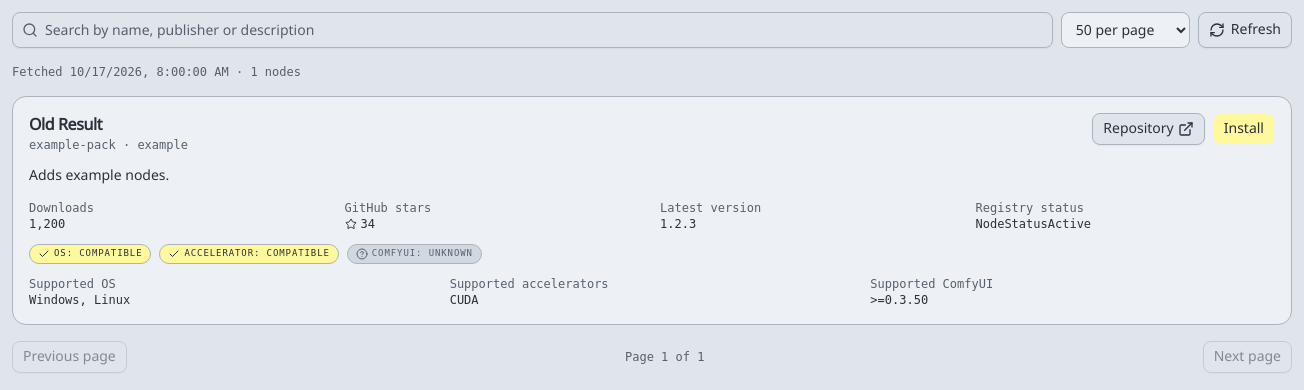
Test case: previous_query_results_cannot_be_installed
The image size is (1304, 390).
Check: the button with aria-label "Install Old Result" is enabled, box [1213,113,1275,145]
Type "next" into the field named "Search the Comfy Registry" at (532, 30), box [12,12,1053,48]
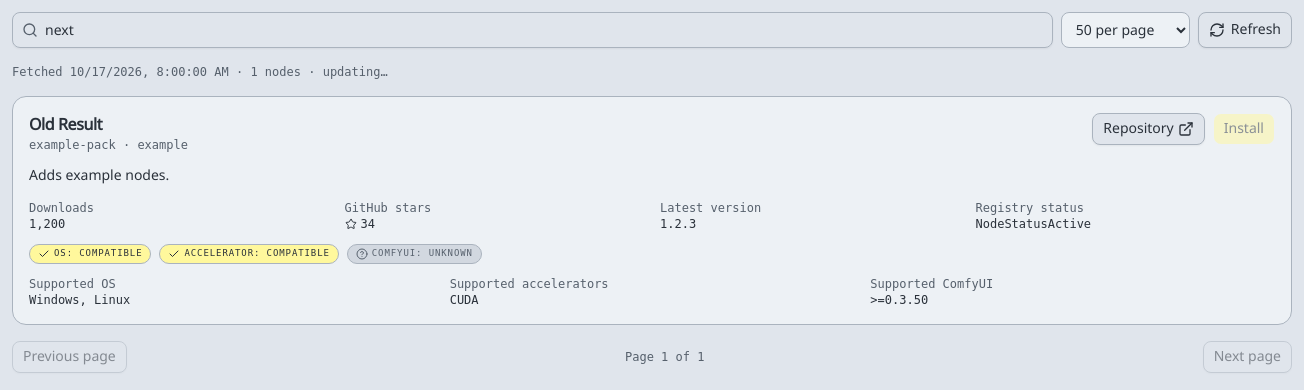
Check: the button with aria-label "Install Old Result" is disabled
Click the button with aria-label "Install Old Result" at (1244, 129), box [1213,113,1275,145]
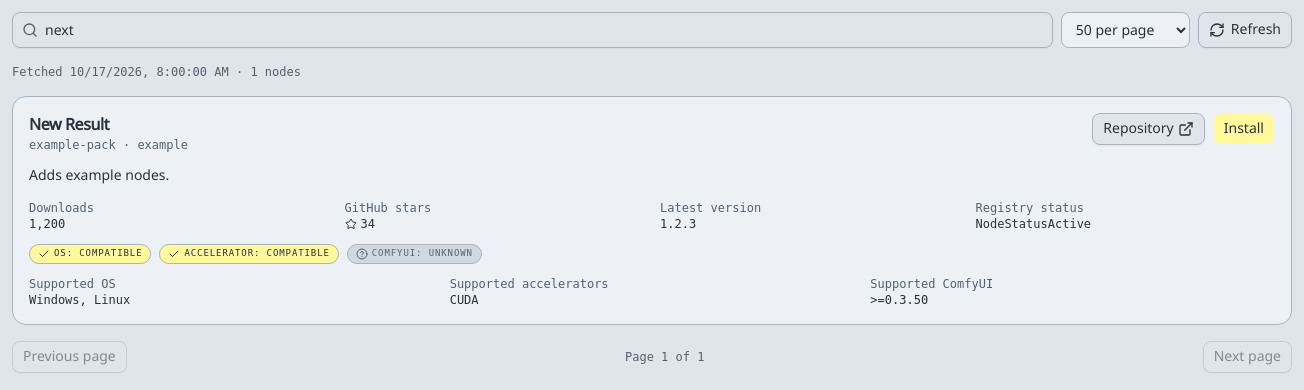
Check: the button with aria-label "Install New Result" is enabled, box [1213,113,1275,145]
